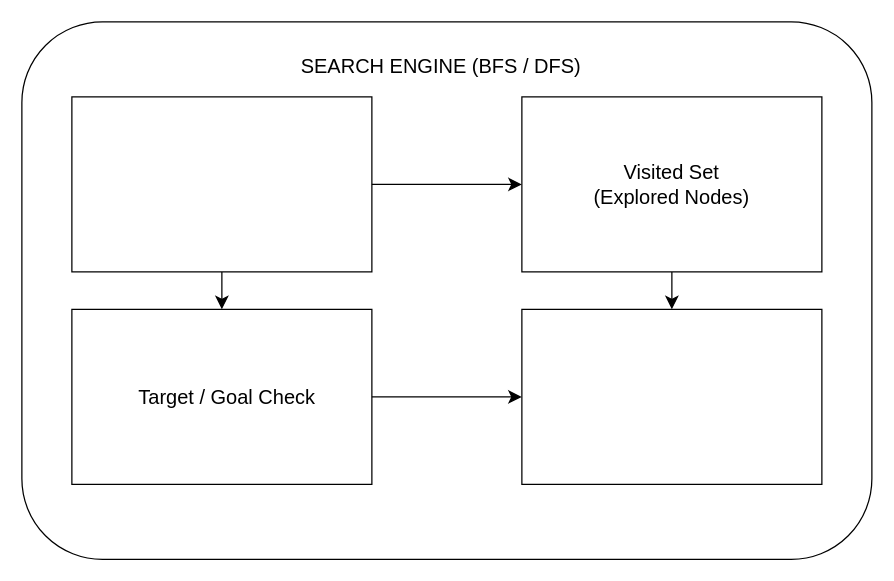
The diagram is 894 pixels wide and 581 high, and some of its shapes have lost their labels. Each missing label, with the box of its shape:
Queue / Stack (Frontier Storage): (71, 96, 372, 272)
Traversal Path Builder: (521, 308, 822, 484)
